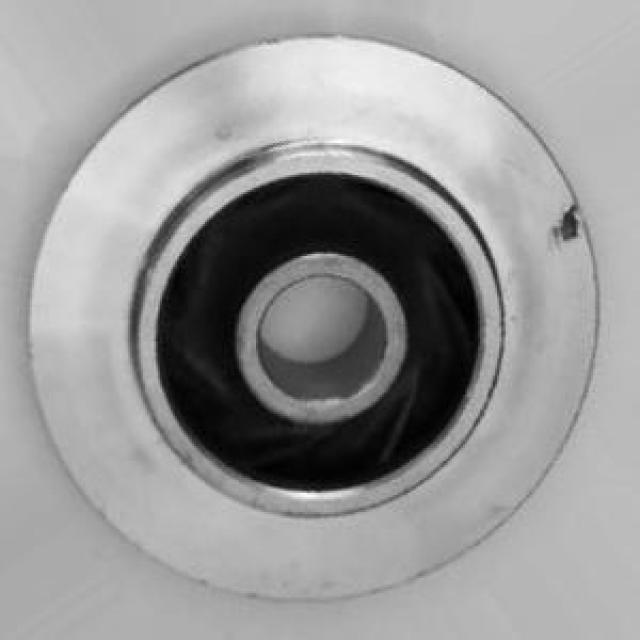Defect: (544, 197, 586, 256)
